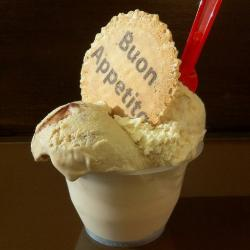icecream: (38, 70, 224, 185)
